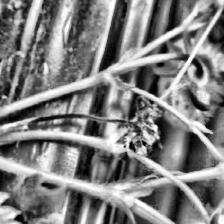Gray Mold: (116, 96, 168, 172)
